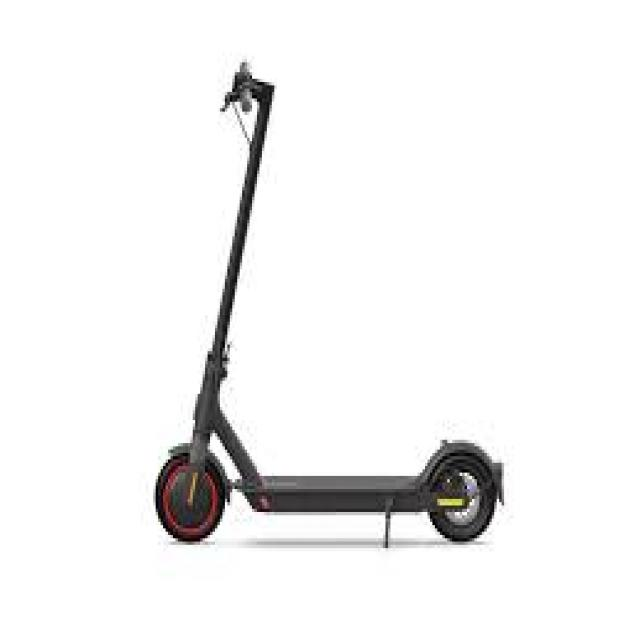bike: (151, 57, 510, 548)
